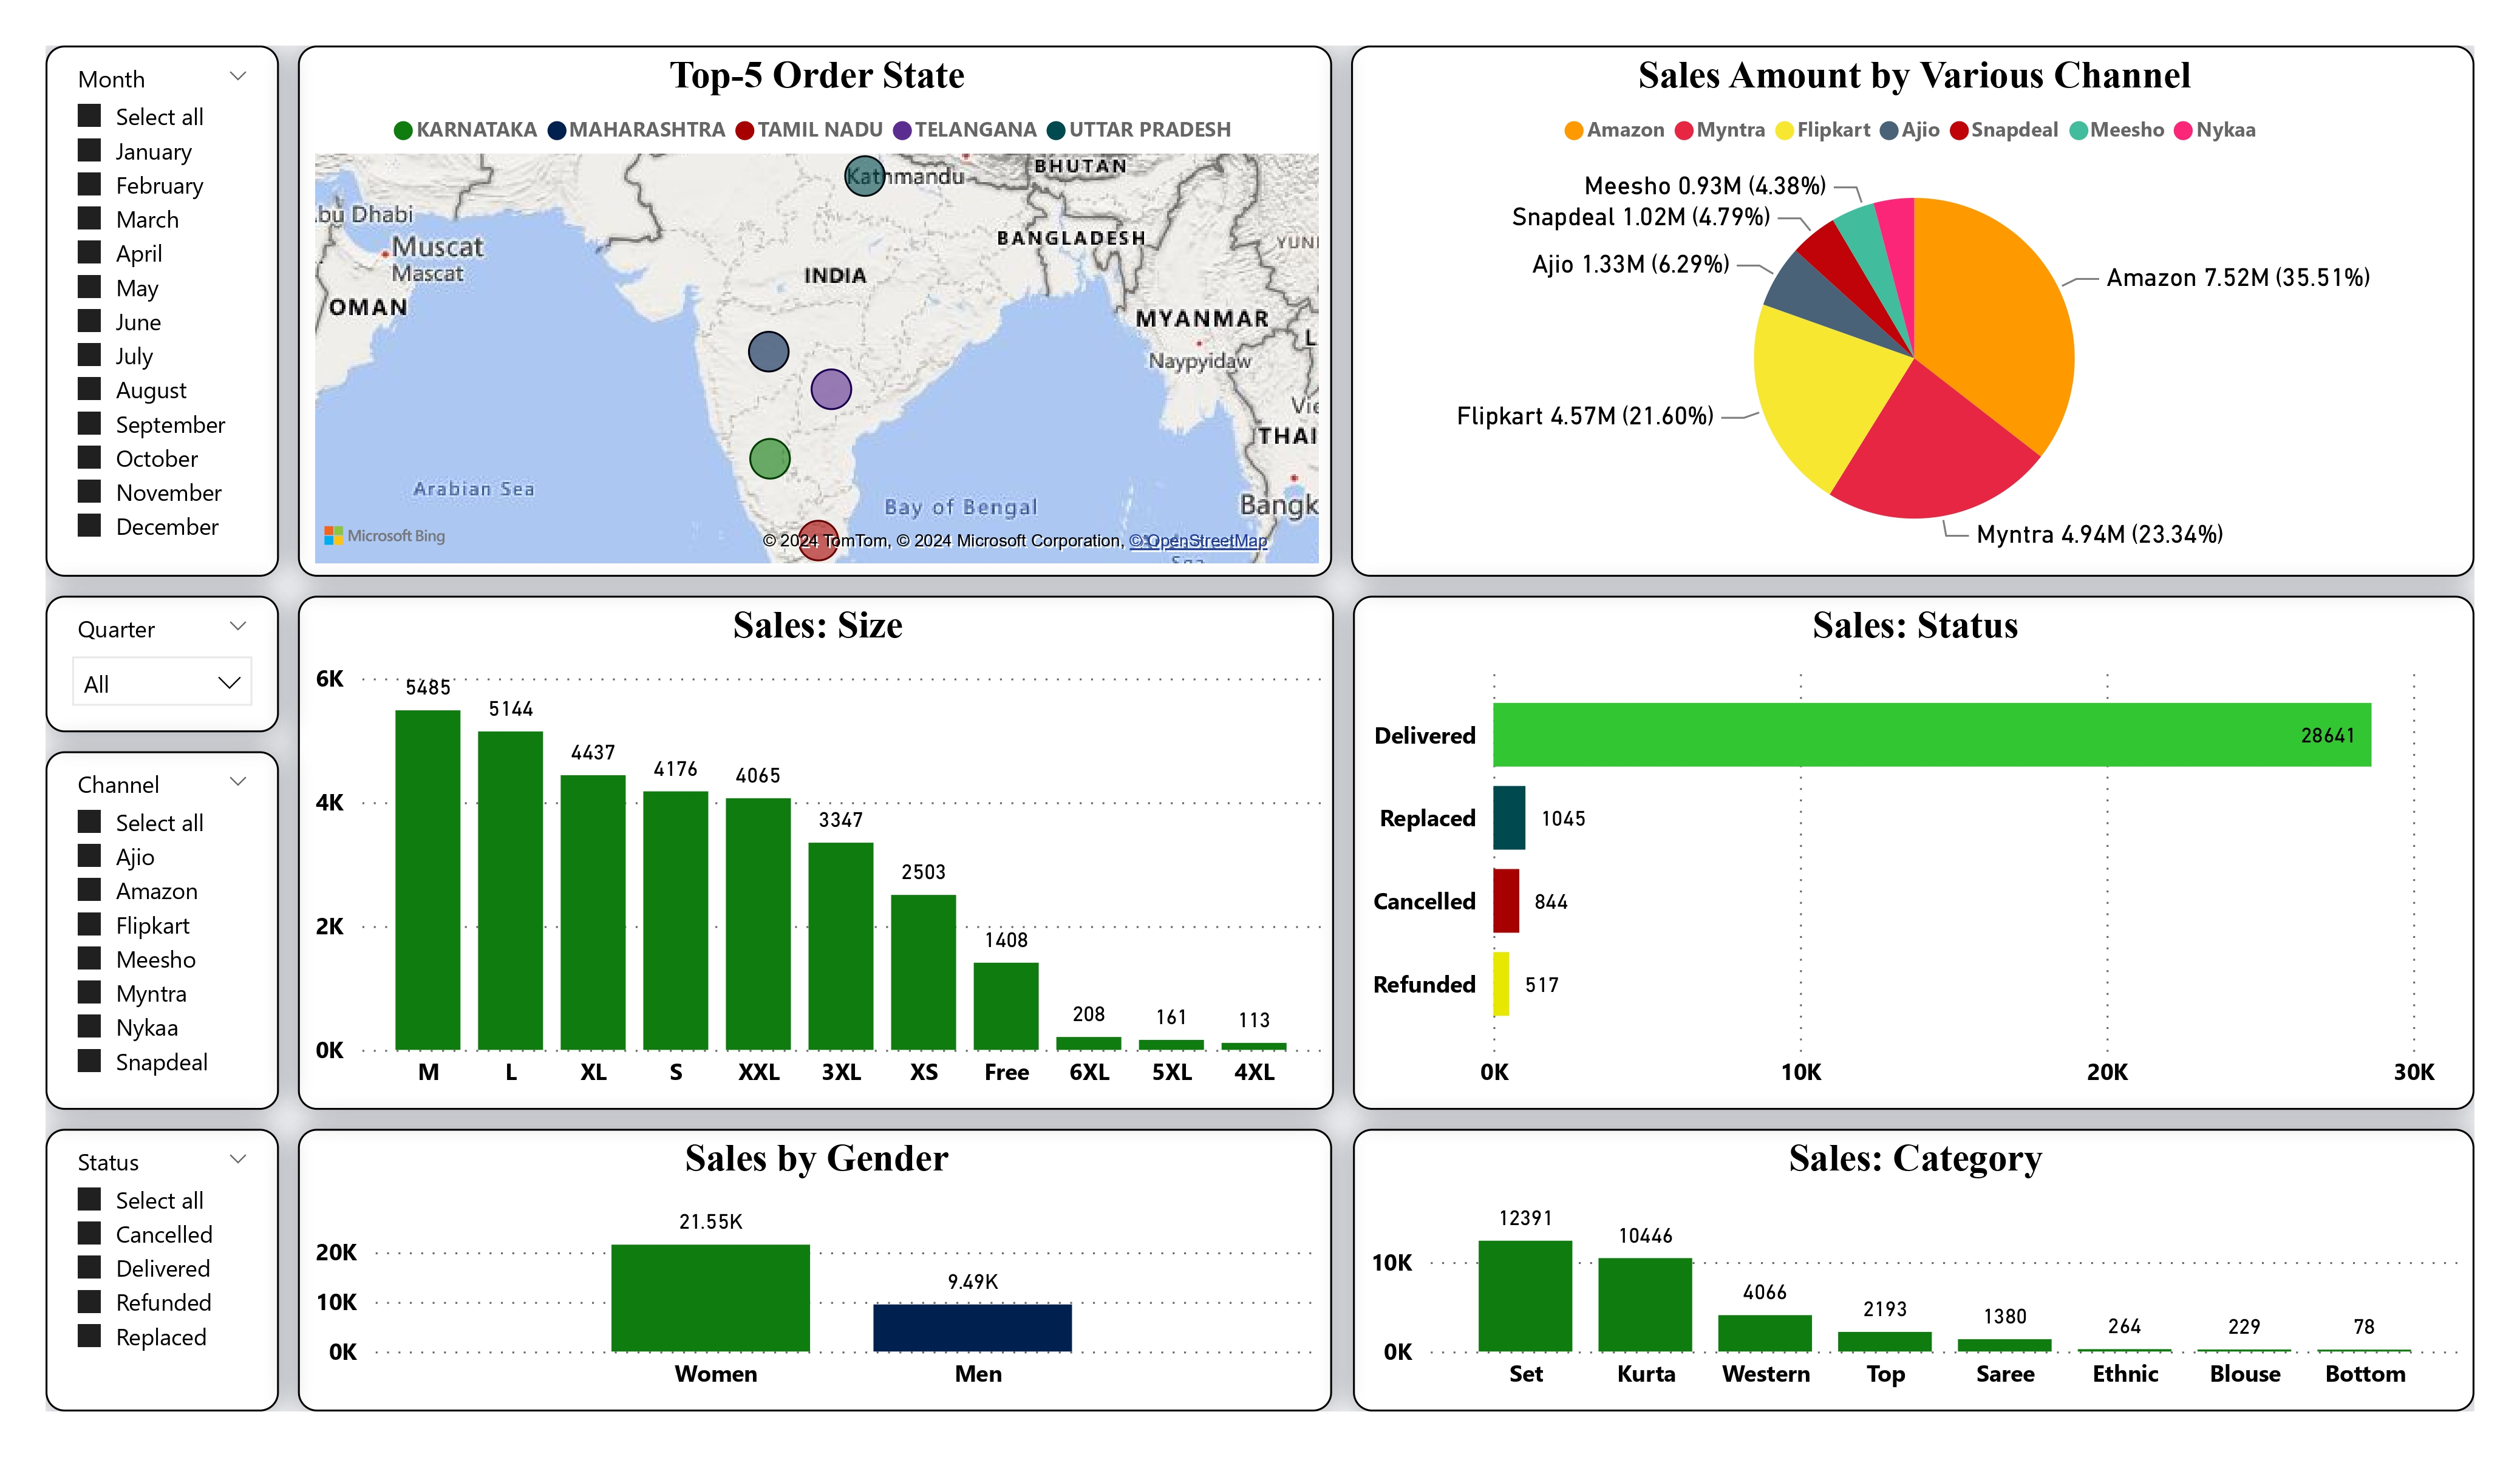

What the dashboard file says about the page in this screenshot:
{"tool":"powerbi","page":{"name":"Page-1","canvas":[1280,720],"ordinal":0},"visuals":[{"type":"pieChart","title":"Sales Amount by Various Channel ","fields":{"Category":["Dataset.Channel "],"Y":["Sum(Dataset.Amount)"]},"box":[688.2,0,591.6,279.9],"z":0},{"type":"clusteredBarChart","title":"Sales: Status","fields":{"Category":["Dataset.Status"],"Y":["CountNonNull(Dataset.Order ID)"]},"box":[689.4,289.7,590.4,271.4],"z":1000},{"type":"map","title":"Top-5 Order State","fields":{"Category":["Dataset.ship-state"],"Series":["Dataset.ship-state"]},"box":[133.2,0,545.2,279.9],"z":2000},{"type":"slicer","fields":{"Values":["Dataset.Channel "]},"box":[0,371.6,123.5,189.5],"z":3000},{"type":"slicer","fields":{"Values":["Dataset.Status"]},"box":[0,570.9,123.5,149.1],"z":4000},{"type":"clusteredColumnChart","title":"Sales: Size","fields":{"Y":["CountNonNull(Dataset.Order ID)"],"Category":["Dataset.Size"]},"box":[132.9,290,545.9,270.6],"z":5000},{"type":"clusteredColumnChart","title":"Sales: Category","fields":{"Category":["Dataset.Category"],"Y":["CountNonNull(Dataset.Order ID)"]},"box":[689.4,570.9,590.4,149.1],"z":6000},{"type":"clusteredColumnChart","title":"Sales by Gender","fields":{"Category":["Dataset.Gender"],"Y":["CountNonNull(Dataset.Order ID)"]},"box":[133.2,570.9,545.2,149.1],"z":7000},{"type":"slicer","fields":{"Values":["Dataset.Date.Variation.Date Hierarchy.Month"]},"box":[0,0,123.5,279.9],"z":8000},{"type":"slicer","fields":{"Values":["Dataset.Date.Variation.Date Hierarchy.Quarter"]},"box":[0,289.7,123.5,72.1],"z":9000}]}

Visuals, with their boxes in screenshot pixels (x1, y1, x2, y2):
"Sales Amount by Various Channel " pieChart: (1335, 46, 2443, 570)
"Sales: Status" clusteredBarChart: (1337, 588, 2443, 1096)
"Top-5 Order State" map: (295, 46, 1316, 570)
slicer - Dataset.Channel : (46, 742, 278, 1096)
slicer - Dataset.Status: (46, 1115, 278, 1394)
"Sales: Size" clusteredColumnChart: (295, 589, 1317, 1096)
"Sales: Category" clusteredColumnChart: (1337, 1115, 2443, 1394)
"Sales by Gender" clusteredColumnChart: (295, 1115, 1316, 1394)
slicer - Dataset.Date.Variation.Date Hierarchy.Month: (46, 46, 278, 570)
slicer - Dataset.Date.Variation.Date Hierarchy.Quarter: (46, 588, 278, 723)
